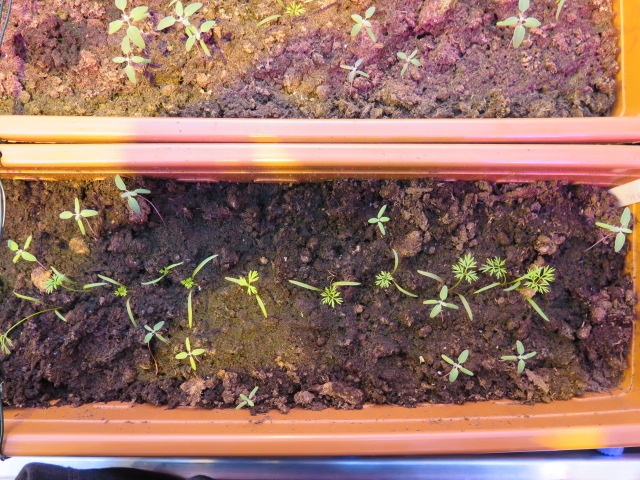weed: (590, 199, 635, 257), (111, 171, 154, 218), (57, 191, 100, 235), (498, 334, 538, 379), (437, 345, 475, 385), (172, 334, 209, 372), (348, 1, 379, 45), (336, 54, 371, 86), (393, 45, 424, 81), (5, 233, 39, 265), (364, 200, 391, 238), (141, 316, 169, 347), (233, 383, 261, 412)
